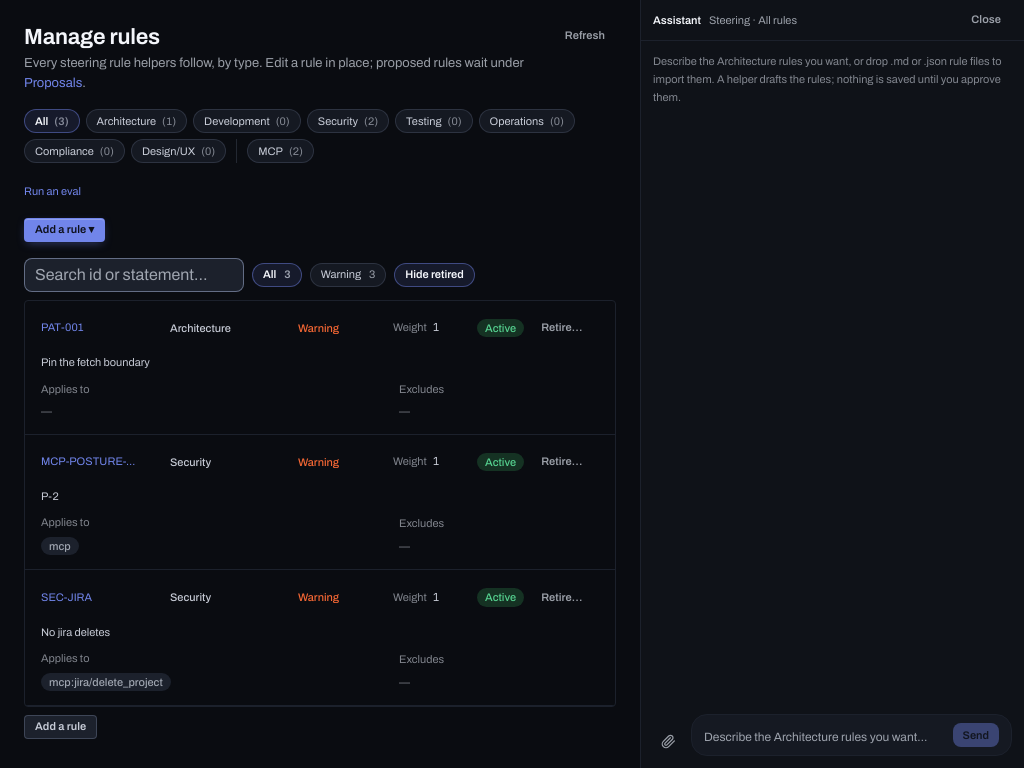
Test case: Add MCP policy: Subject and When builders › a deny with no Applies to cannot be saved (INV-S3), and a taken id is refused
Click the button with test id "steering-add-menu" at point(65, 230), box [24, 218, 105, 242]
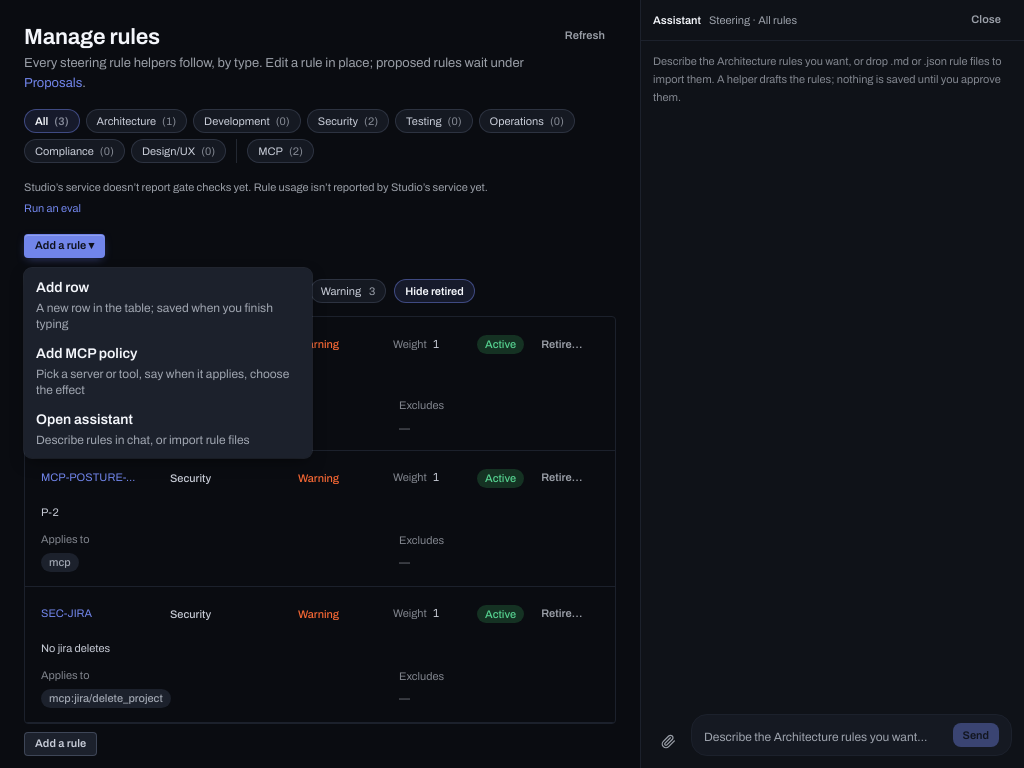
Click the menu item with test id "steering-add-mcp" at point(168, 371), box [24, 338, 312, 404]
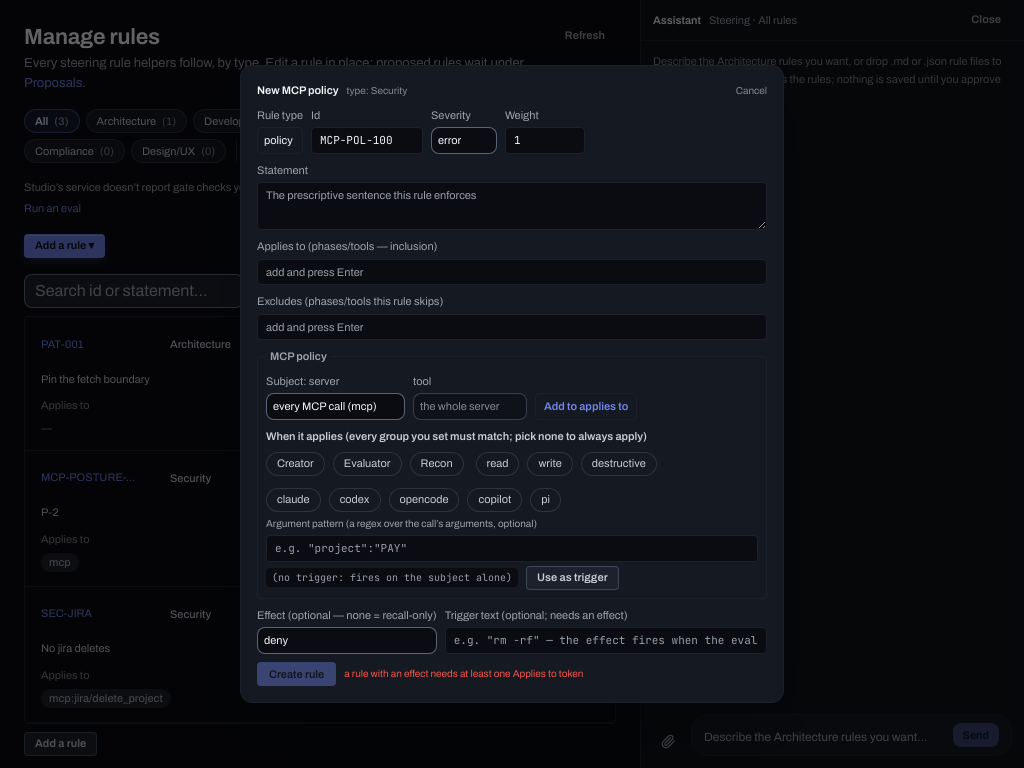
Type "something" into the text box with test id "steering-form-statement" at point(512, 206), box [257, 182, 767, 230]
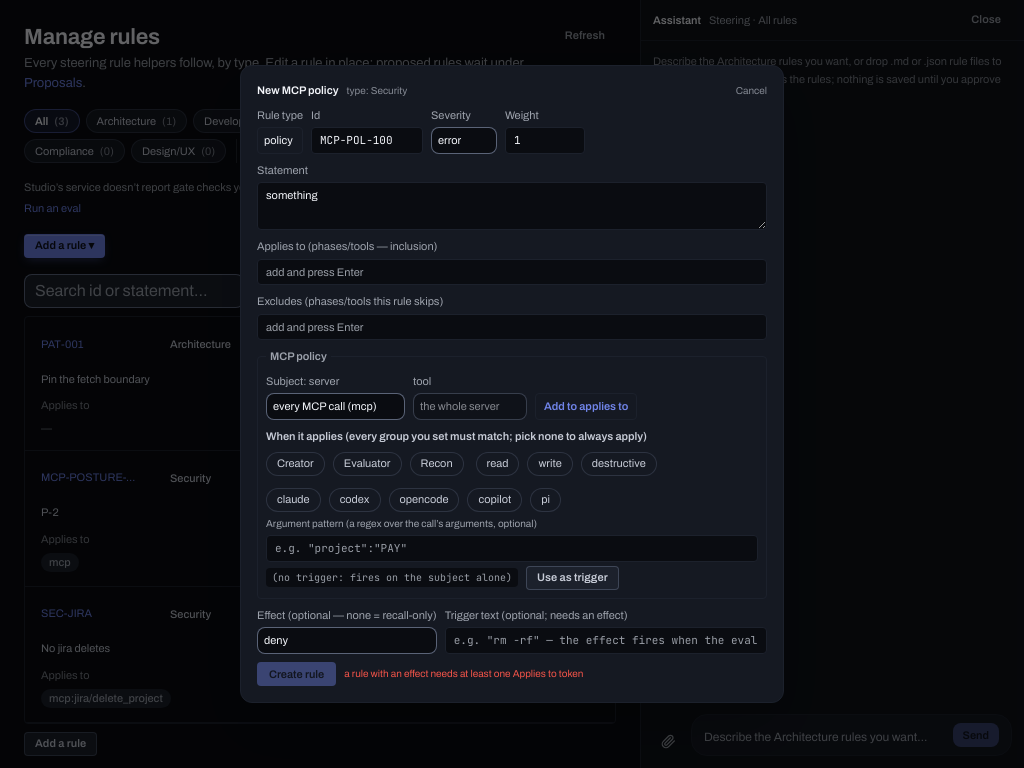
Now the button with test id "steering-form-save" is disabled, box [257, 662, 336, 686]
Now the text "a rule with an effect needs at least one Applies to token" is shown, box [344, 666, 583, 681]
Click the button with test id "steering-mcp-add-subject" at point(586, 406), box [535, 393, 637, 420]
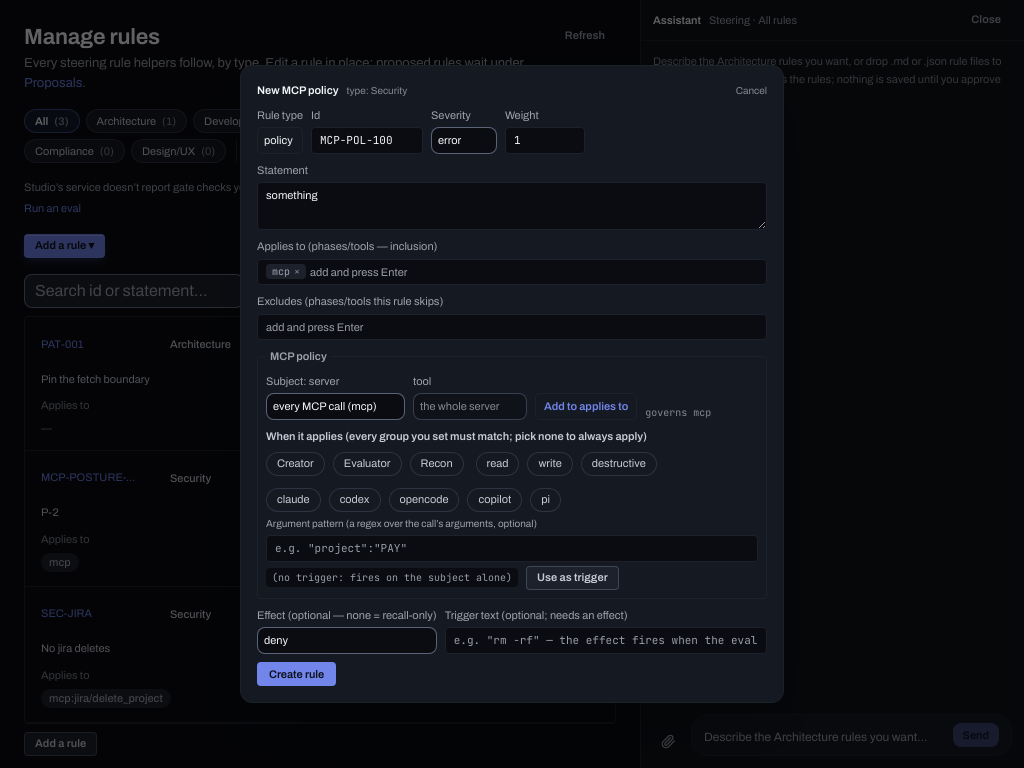
Now the button with test id "steering-form-save" is enabled, box [257, 662, 336, 686]
Replace the text in the field with test id "steering-form-id" with "SEC-JIRA" at point(367, 140), box [311, 127, 423, 154]
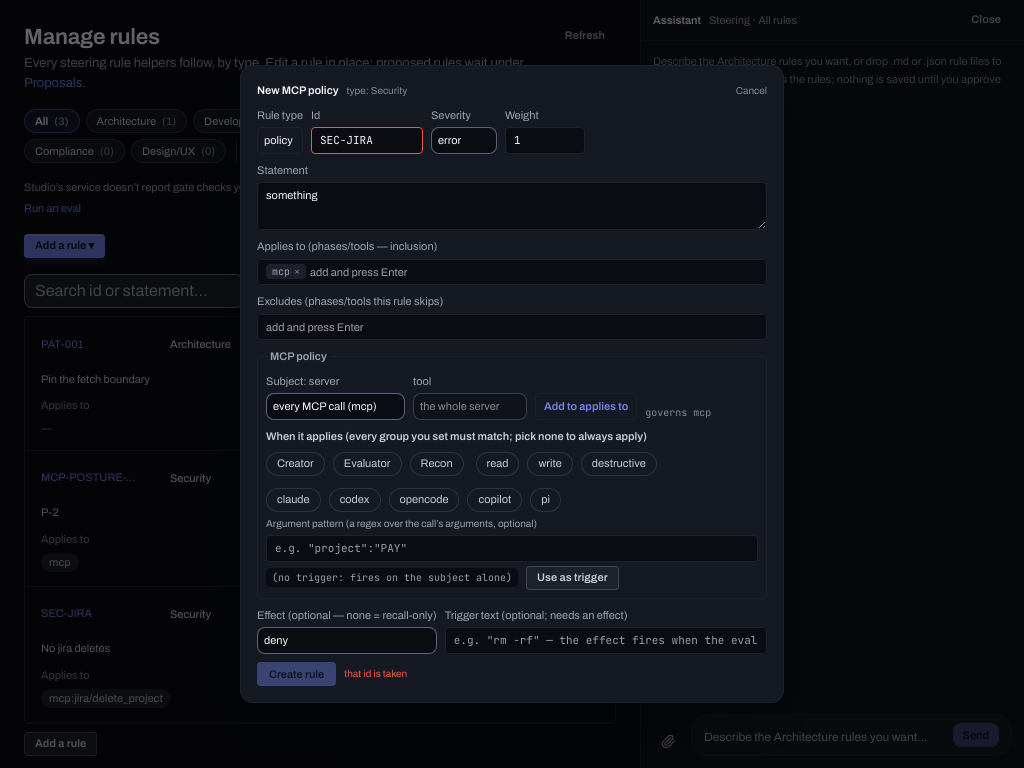
Now the button with test id "steering-form-save" is disabled, box [257, 662, 336, 686]
